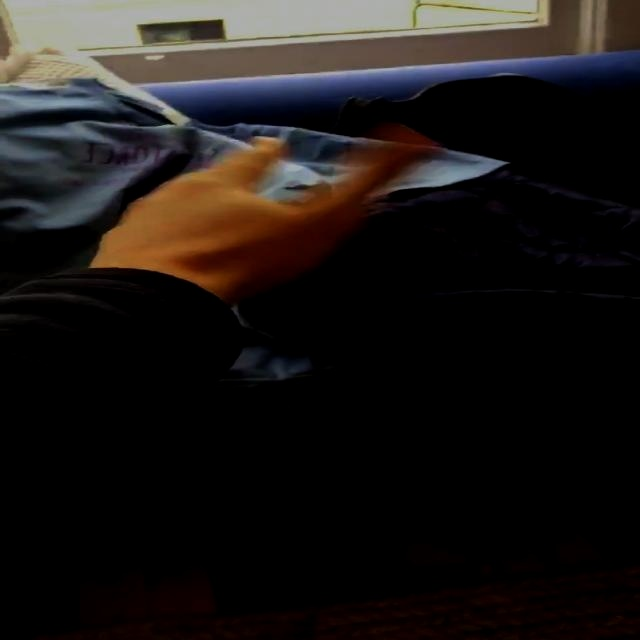Paper: (87, 134, 423, 297)
